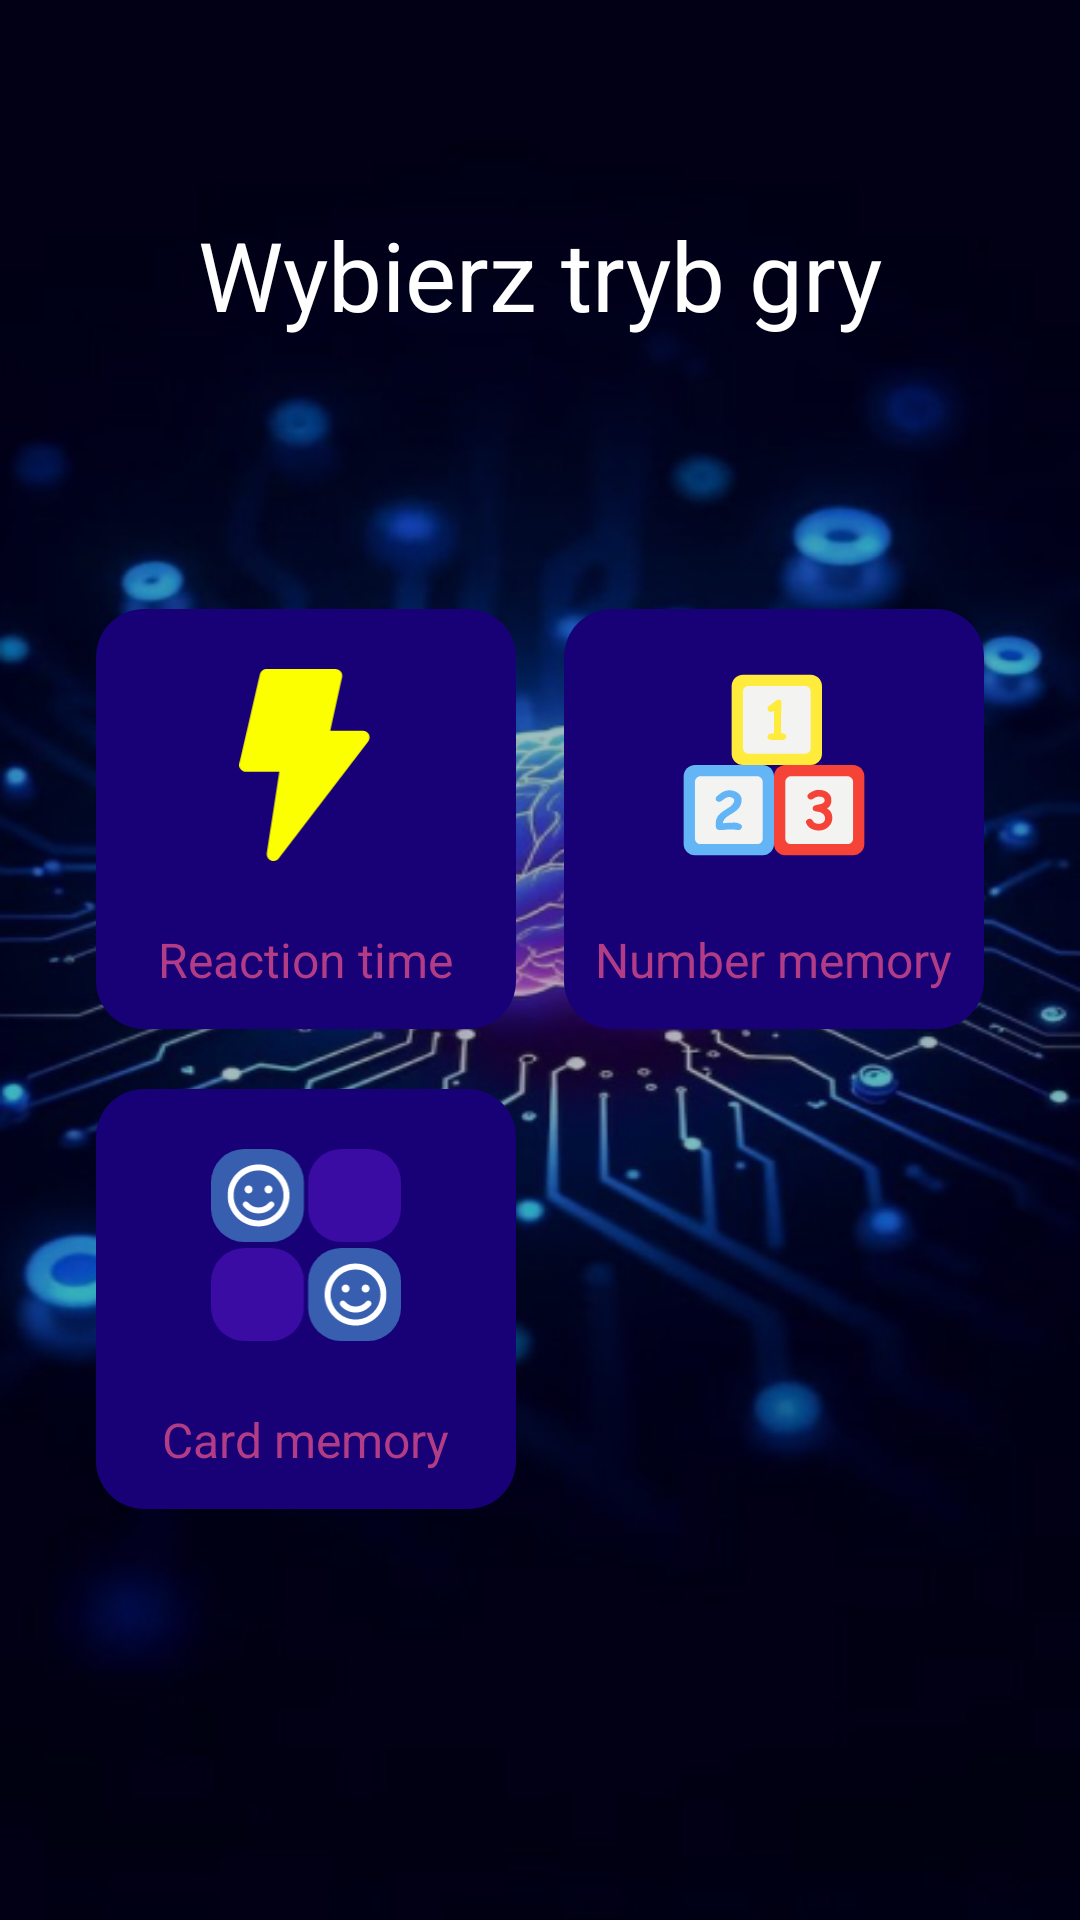

Named icons in this screenshot (1080px x 1920px) and their centers, (x=x, y=y):
cards: (x=306, y=1245)
numbers: (x=774, y=765)
